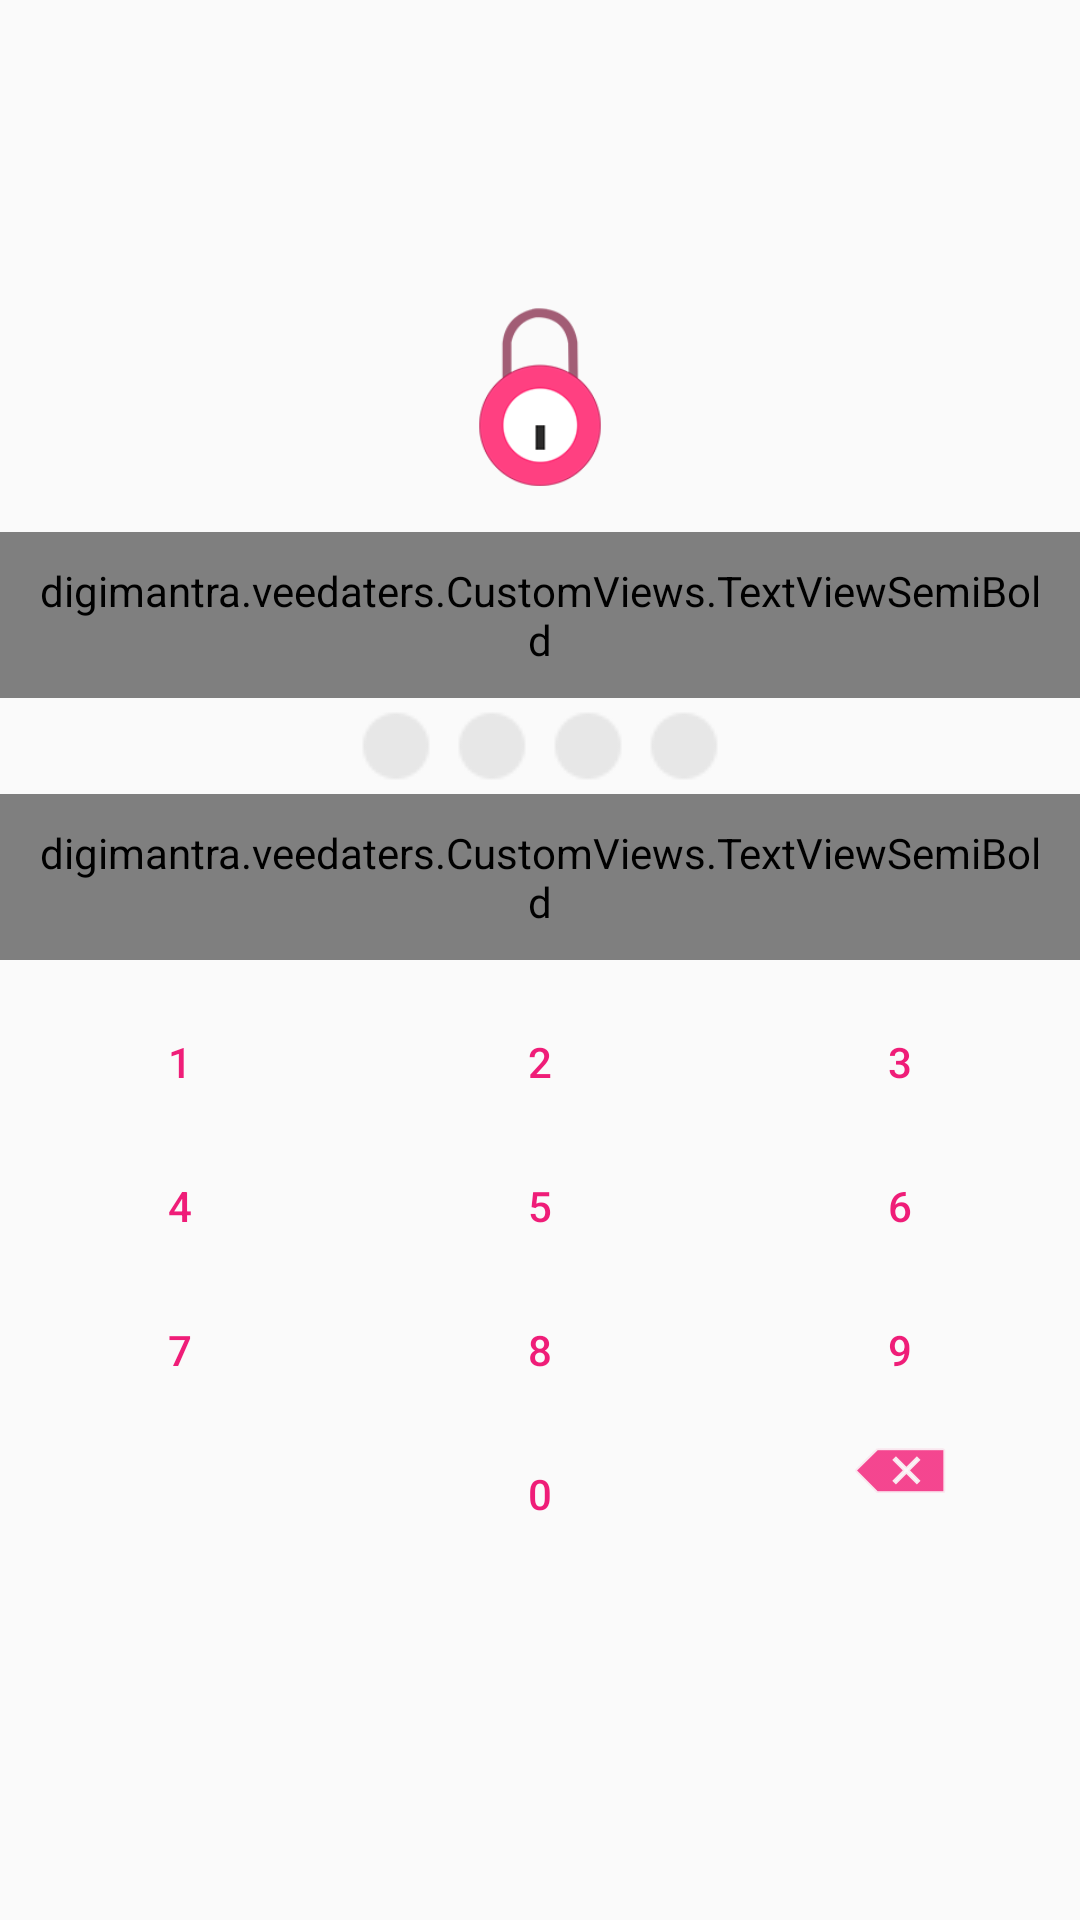

Point at icon controls on the screen. Image size 1080*1920, points as (x,y).
delete: (900,1471)
lock: (540,397)
